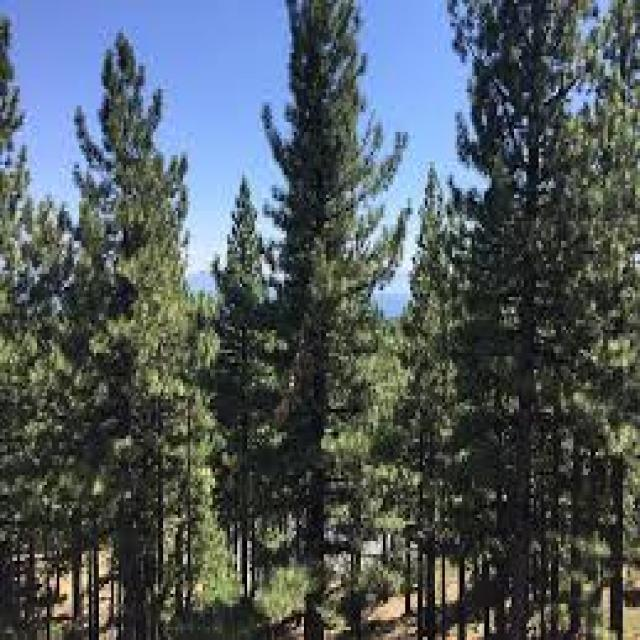sanaoubar: (467, 16, 633, 614), (278, 0, 397, 566), (96, 33, 202, 600)
